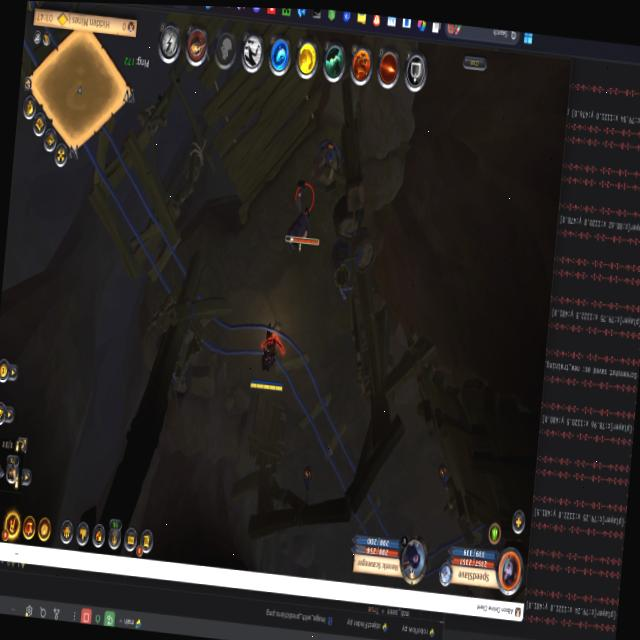ore: (274, 175, 329, 264)
red: (246, 316, 293, 401)
